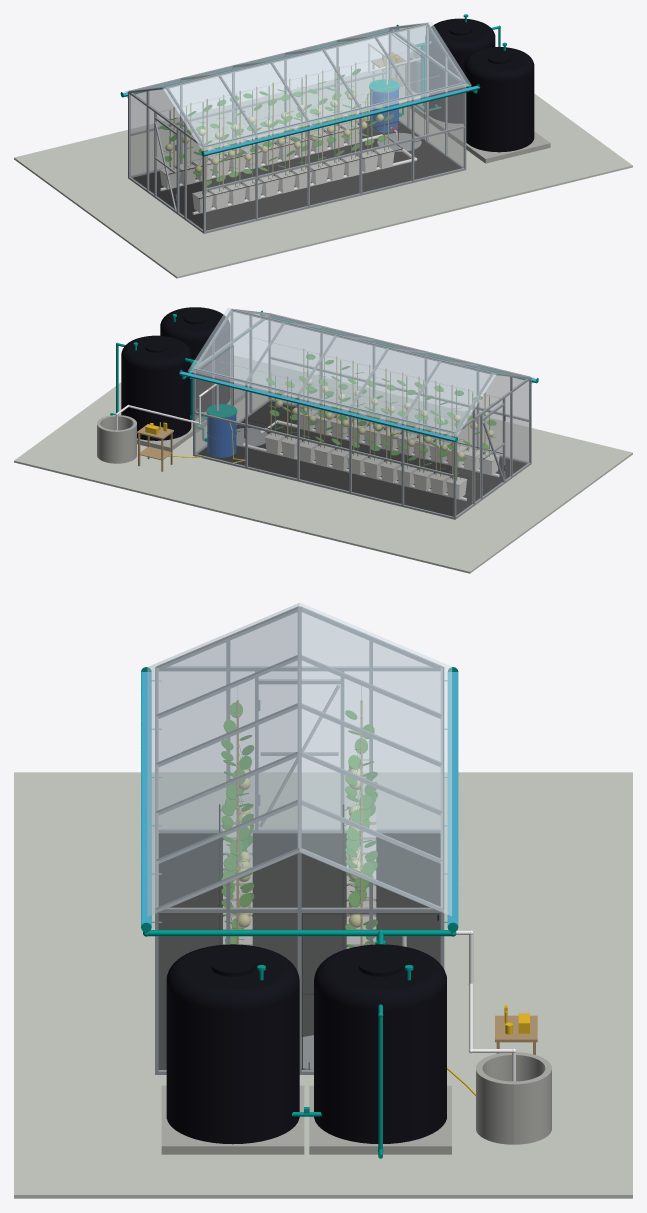
Rendered from prototype.glb.
3 renders of one model, top to bottom at view 1: azimuth 30°, elevation 25°; view 2: azimuth 150°, elevation 25°; view 3: azimuth 270°, elevation 25°, orthographic. The views are drawn at different scales.
Parts seen in each view (by area): view 1: cover|net|04 Dinding kasa insect net, site|ground|48 Tanah, cover|roof|02 Atap plastik UV bening (selatan), frame|frame|00 Rangka baja ringan galvanis (sudah ada), existing|mat|05 Alas mulsa anyaman hitam, new|tank|35 Tandon 2 Filtra 2.650 L (baru), existing|bucket|08 Ember Dutch Bucket (sudah ada), new|tank|31 Tandon 1 Filtra 2.650 L (baru), plant|plant|16 Daun melon, existing|lid|09 Tutup ember, existing|bamboo|13 Ajir bambu (sudah ada), cover|roof|03 Atap plastik UV bening (utara) (+10 smaller); view 2: site|ground|48 Tanah, cover|net|04 Dinding kasa insect net, cover|roof|03 Atap plastik UV bening (utara), frame|frame|00 Rangka baja ringan galvanis (sudah ada), existing|mat|05 Alas mulsa anyaman hitam, new|tank|31 Tandon 1 Filtra 2.650 L (baru), existing|bucket|08 Ember Dutch Bucket (sudah ada), new|tank|35 Tandon 2 Filtra 2.650 L (baru), plant|plant|16 Daun melon, existing|lid|09 Tutup ember, existing|bamboo|13 Ajir bambu (sudah ada), existing|concrete|20 Sumur (letak dan ukuran perkiraan, suda (+11 smaller); view 3: site|ground|48 Tanah, cover|net|04 Dinding kasa insect net, cover|roof|03 Atap plastik UV bening (utara), cover|roof|02 Atap plastik UV bening (selatan), new|tank|35 Tandon 2 Filtra 2.650 L (baru), existing|mat|05 Alas mulsa anyaman hitam, new|tank|31 Tandon 1 Filtra 2.650 L (baru), frame|frame|00 Rangka baja ringan galvanis (sudah ada), existing|concrete|20 Sumur (letak dan ukuran perkiraan, suda, plant|plant|16 Daun melon, new|filter|27 Kasa talang ~1 mm dan gantungan (baru), new|concrete|34 Dudukan tandon 2 (batako + semen, baru) (+10 smaller).
Boxes of the visible parts, bbox=[...] form: cover|net|04 Dinding kasa insect net: bbox=[130, 26, 463, 230]; site|ground|48 Tanah: bbox=[14, 65, 632, 278]; cover|roof|02 Atap plastik UV bening (selatan): bbox=[163, 22, 471, 150]; frame|frame|00 Rangka baja ringan galvanis (sudah ada): bbox=[128, 23, 466, 233]; existing|mat|05 Alas mulsa anyaman hitam: bbox=[133, 120, 461, 230]; new|tank|35 Tandon 2 Filtra 2.650 L (baru): bbox=[464, 47, 534, 152]; existing|bucket|08 Ember Dutch Bucket (sudah ada): bbox=[160, 127, 394, 213]; new|tank|31 Tandon 1 Filtra 2.650 L (baru): bbox=[425, 18, 495, 123]; plant|plant|16 Daun melon: bbox=[160, 68, 393, 186]; existing|lid|09 Tutup ember: bbox=[160, 122, 394, 199]; existing|bamboo|13 Ajir bambu (sudah ada): bbox=[173, 62, 388, 193]; cover|roof|03 Atap plastik UV bening (utara): bbox=[123, 22, 430, 92]; site|ground|48 Tanah: bbox=[14, 355, 632, 573]; cover|net|04 Dinding kasa insect net: bbox=[195, 312, 529, 516]; cover|roof|03 Atap plastik UV bening (utara): bbox=[188, 308, 496, 436]; frame|frame|00 Rangka baja ringan galvanis (sudah ada): bbox=[193, 309, 531, 519]; existing|mat|05 Alas mulsa anyaman hitam: bbox=[198, 401, 526, 516]; new|tank|31 Tandon 1 Filtra 2.650 L (baru): bbox=[121, 335, 191, 440]; existing|bucket|08 Ember Dutch Bucket (sudah ada): bbox=[265, 413, 499, 499]; new|tank|35 Tandon 2 Filtra 2.650 L (baru): bbox=[160, 307, 229, 411]; plant|plant|16 Daun melon: bbox=[266, 354, 496, 473]; existing|lid|09 Tutup ember: bbox=[265, 408, 499, 485]; existing|bamboo|13 Ajir bambu (sudah ada): bbox=[270, 348, 485, 479]; existing|concrete|20 Sumur (letak dan ukuran perkiraan, suda: bbox=[97, 415, 136, 463]; site|ground|48 Tanah: bbox=[14, 772, 632, 1198]; cover|net|04 Dinding kasa insect net: bbox=[159, 613, 440, 1070]; cover|roof|03 Atap plastik UV bening (utara): bbox=[299, 603, 452, 916]; cover|roof|02 Atap plastik UV bening (selatan): bbox=[147, 603, 299, 916]; new|tank|35 Tandon 2 Filtra 2.650 L (baru): bbox=[166, 944, 299, 1144]; existing|mat|05 Alas mulsa anyaman hitam: bbox=[158, 833, 440, 1069]; new|tank|31 Tandon 1 Filtra 2.650 L (baru): bbox=[314, 944, 446, 1143]; frame|frame|00 Rangka baja ringan galvanis (sudah ada): bbox=[155, 606, 444, 1074]; existing|concrete|20 Sumur (letak dan ukuran perkiraan, suda: bbox=[476, 1052, 551, 1144]; plant|plant|16 Daun melon: bbox=[221, 702, 377, 947]; new|filter|27 Kasa talang ~1 mm dan gantungan (baru): bbox=[141, 672, 458, 925]; new|concrete|34 Dudukan tandon 2 (batako + semen, baru): bbox=[161, 1085, 304, 1154].
Size of the model in its own units: 10.5 by 3.22 by 6.5.
